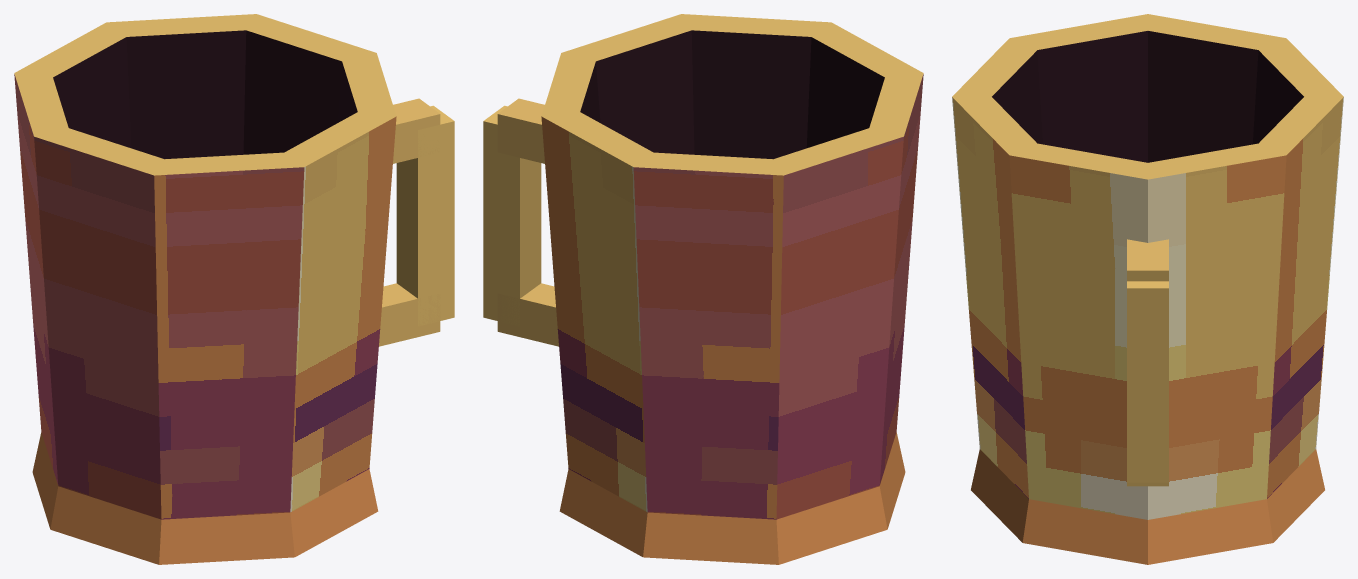
The model's file is pixel_tall_trophy_cup.l.1f468682.glb.
The picture shows the model from 3 angles, left to right: view 1: azimuth 30°, elevation 25°; view 2: azimuth 150°, elevation 25°; view 3: azimuth 270°, elevation 25°; orthographic projection.
Parts seen in each view (by area): view 1: tall_trophy_cup; view 2: tall_trophy_cup; view 3: tall_trophy_cup.
Part boxes in pixels (x1,y1,x2,y2): tall_trophy_cup: (14, 14, 454, 564); tall_trophy_cup: (483, 14, 923, 564); tall_trophy_cup: (952, 14, 1343, 564).
Size of the model in its own units: 0.35 by 0.3239 by 0.2925.
Materials: 1 (1 with a texture image).
